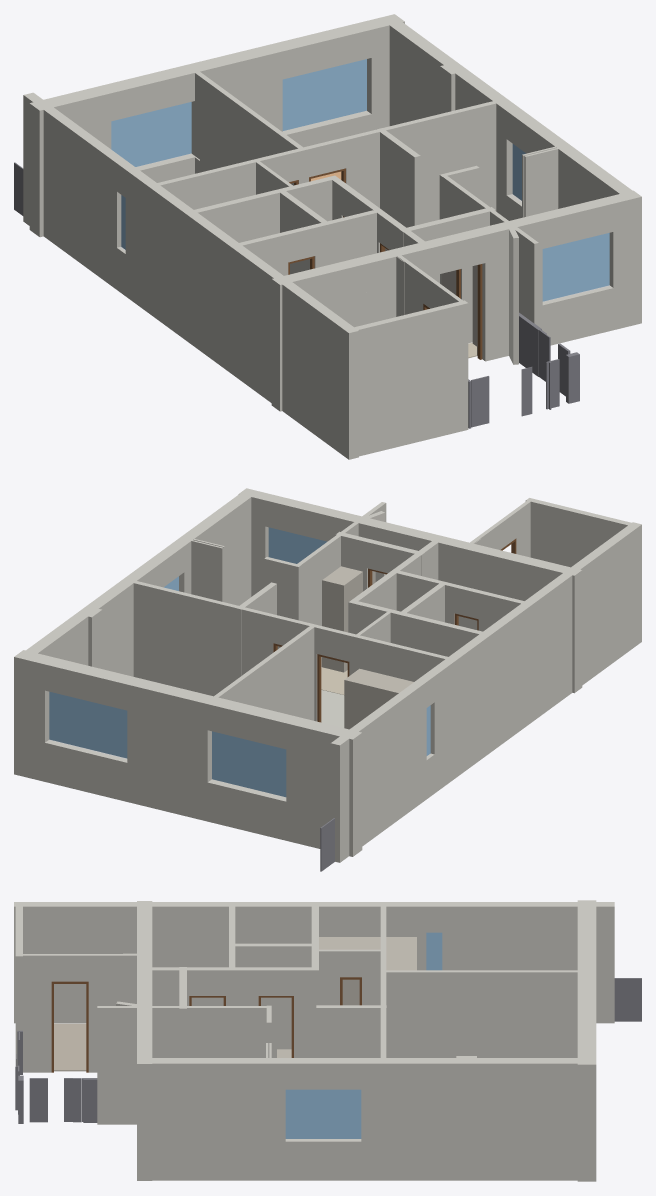
3 renders of one model, top to bottom at view 1: azimuth 30°, elevation 25°; view 2: azimuth 150°, elevation 25°; view 3: azimuth 270°, elevation 25°, orthographic. The views are drawn at different scales.
Parts seen in each view (by area): view 1: walls, railings, window_3, window_0, window_2; view 2: walls, window_3, window_0, furniture_0_closet, furniture_2_closet, window_2, floor_3_Undefined, railings, floor_5_Entry; view 3: walls, railings, window_4, floor_11_Storage, furniture_1_closet, furniture_0_closet, window_13, door_7.
Boxes of the visible parts, left/top/right/bottom form: walls: left=23, top=14, right=641, bottom=459; railings: left=14, top=162, right=579, bottom=428; window_3: left=282, top=59, right=366, bottom=130; window_0: left=111, top=102, right=191, bottom=166; window_2: left=542, top=233, right=609, bottom=301; walls: left=14, top=488, right=641, bottom=862; window_3: left=49, top=691, right=127, bottom=758; window_0: left=212, top=731, right=286, bottom=797; furniture_0_closet: left=344, top=668, right=413, bottom=729; furniture_2_closet: left=322, top=566, right=362, bottom=672; window_2: left=268, top=527, right=326, bottom=563; floor_3_Undefined: left=321, top=690, right=344, bottom=727; railings: left=320, top=818, right=334, bottom=871; floor_5_Entry: left=321, top=667, right=347, bottom=694; walls: left=14, top=900, right=614, bottom=1181; railings: left=15, top=978, right=641, bottom=1123; window_4: left=285, top=1089, right=361, bottom=1138; floor_11_Storage: left=54, top=1023, right=86, bottom=1071; furniture_1_closet: left=319, top=937, right=380, bottom=1005; furniture_0_closet: left=386, top=937, right=416, bottom=970; window_13: left=426, top=932, right=442, bottom=970; door_7: left=51, top=981, right=88, bottom=1072.
Bounding box in the file's own units: 8.15 × 2.72 × 13.15.
